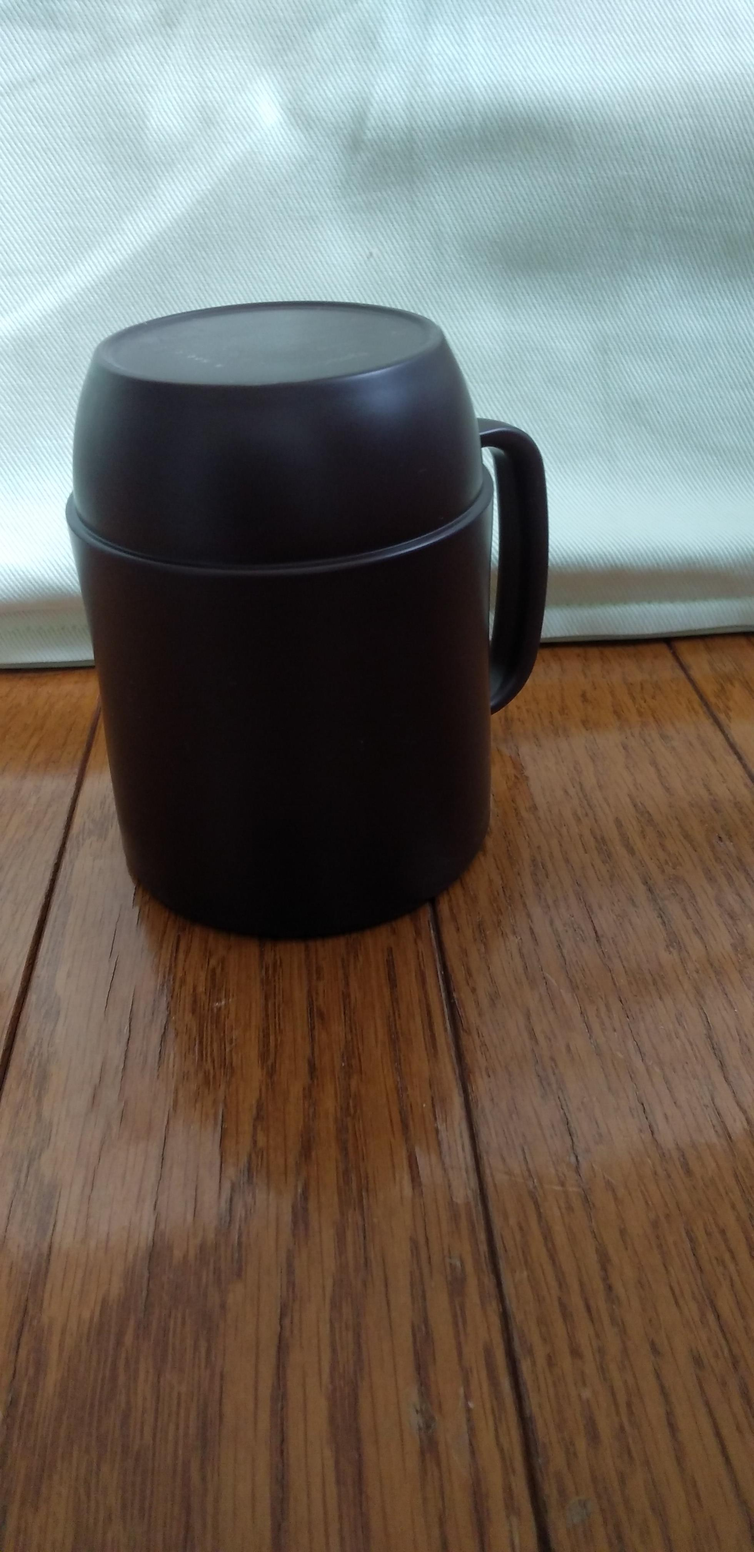mug-real100-3d100: (67, 302, 548, 939)
